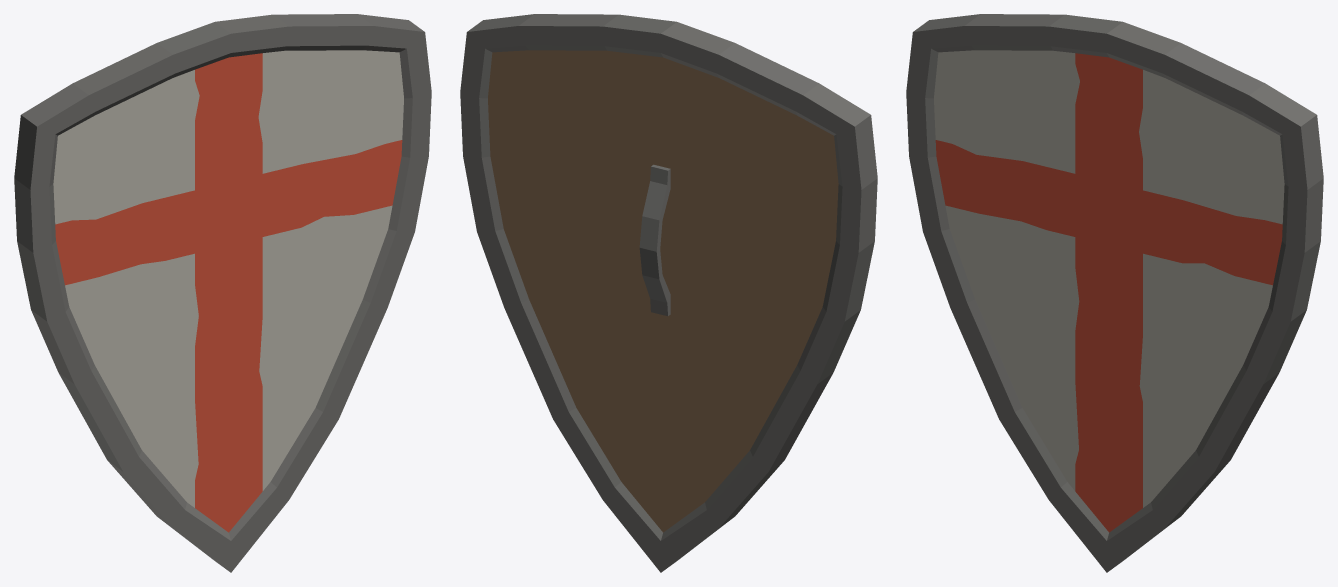
The model's file is SM_pwe_medieval_shield_03b.fbx.
The picture shows the model from 3 angles, left to right: view 1: azimuth 30°, elevation 25°; view 2: azimuth 150°, elevation 25°; view 3: azimuth 330°, elevation 25°; orthographic projection.
Visible parts, largest first — view 1: SM_pwe_medieval_shield_03b; view 2: SM_pwe_medieval_shield_03b; view 3: SM_pwe_medieval_shield_03b.
Part boxes in pixels (x1,y1,x2,y2): SM_pwe_medieval_shield_03b: (14, 14, 431, 572); SM_pwe_medieval_shield_03b: (460, 14, 877, 572); SM_pwe_medieval_shield_03b: (906, 14, 1323, 572).
Bounding box in the file's own units: 63.26 × 81.23 × 7.62.
